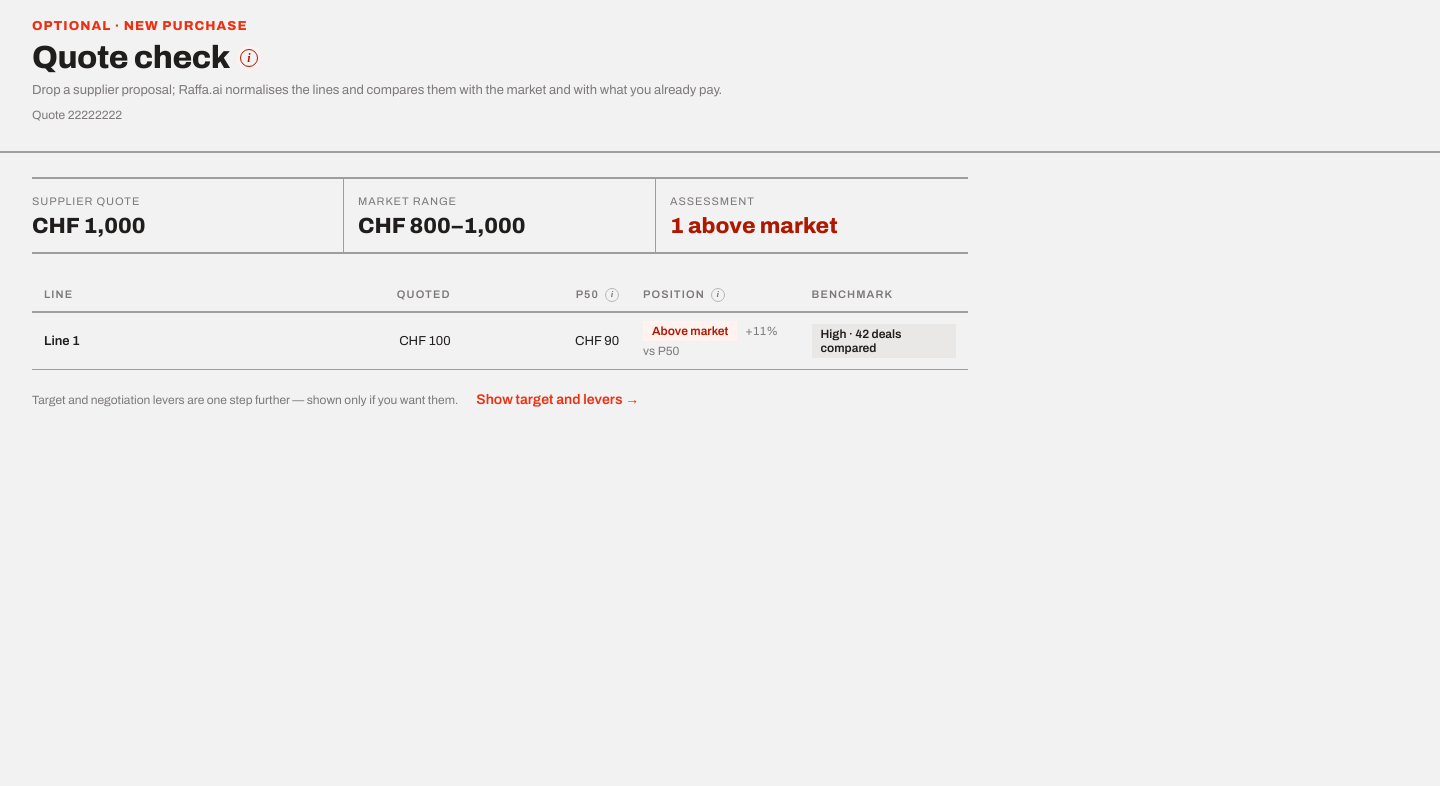
QuoteCheckRoute (V2, ADR-024 / screens-v2.md #9) › negotiation outcome capture (one step further) › a failed getQuote shows the ADR-018 error state naming the quote, with a Retry
The width and height of the screenshot is (1440, 786).
expect the text "Target and negotiation levers are one step further — shown only if you want them." is shown: met, box [32,393,458,407]
Click the button "Show target and levers →" at (558, 401), box [470,382,645,419]
(page scrolled)
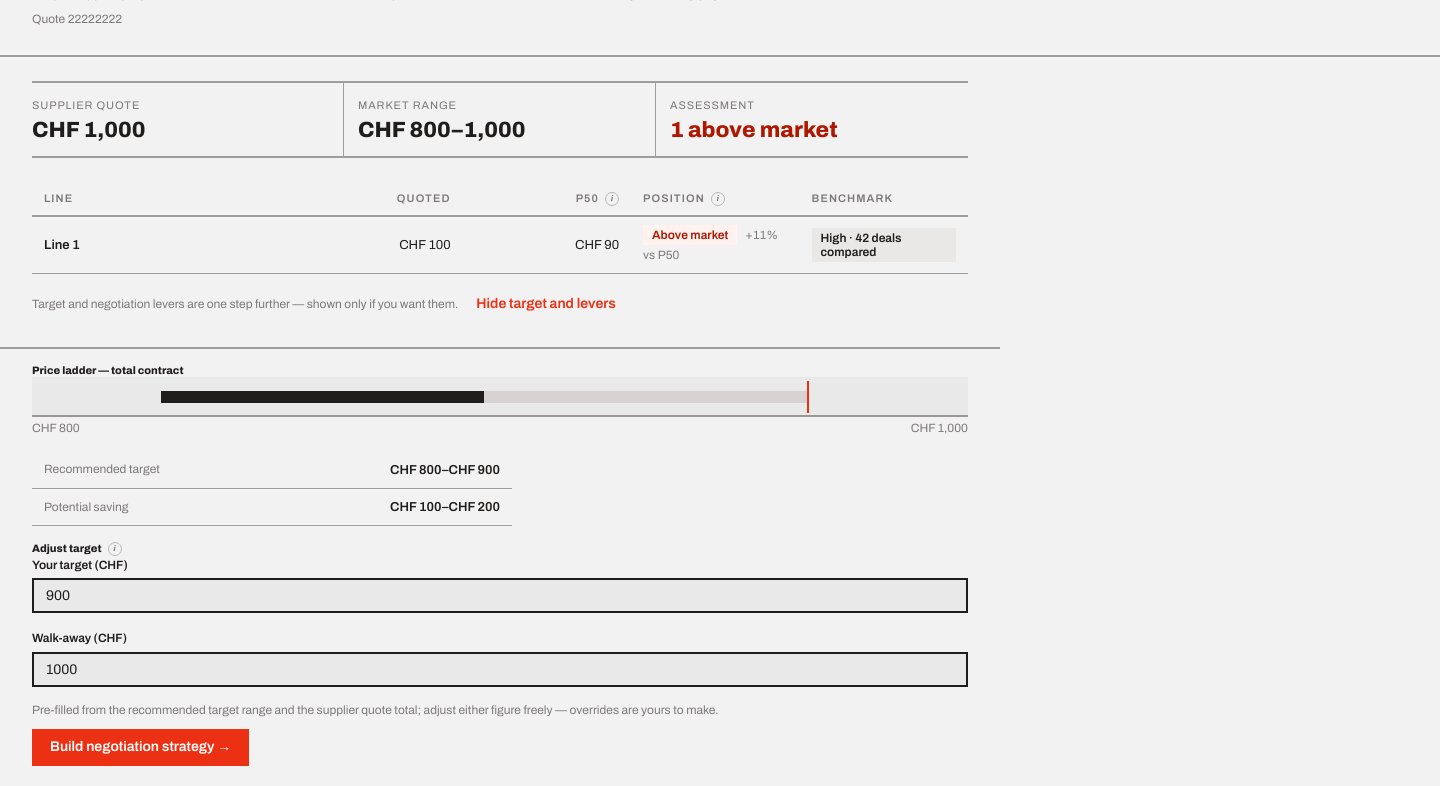
Click the button "Build negotiation strategy →" at (141, 748), box [32,729,249,766]
(page scrolled)
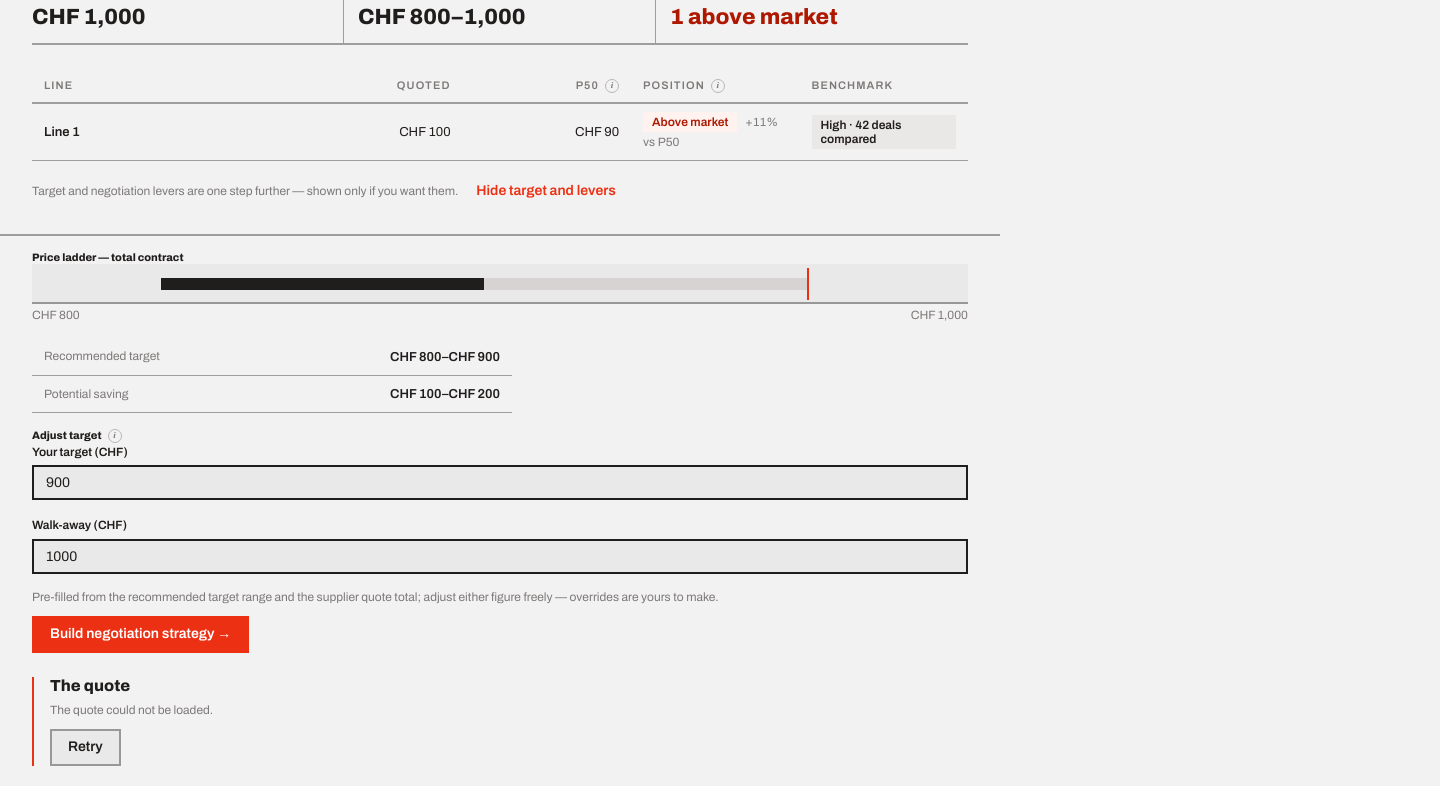
expect the heading "The quote" is shown: met, box [50,677,130,694]
Click the button "Retry" at (85, 748), box [50,730,121,766]
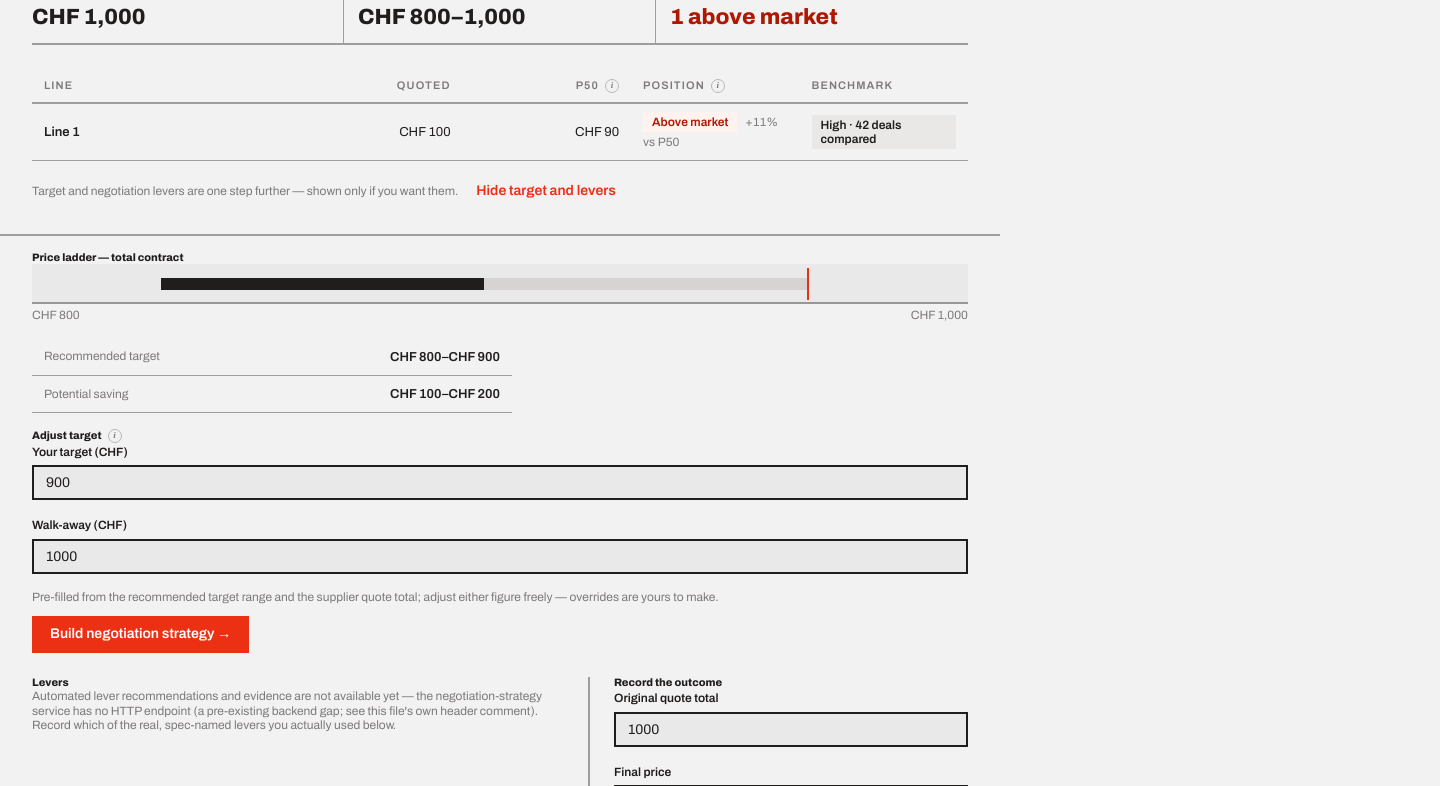
expect the heading "Record the outcome" is shown: met, box [614,677,722,688]
